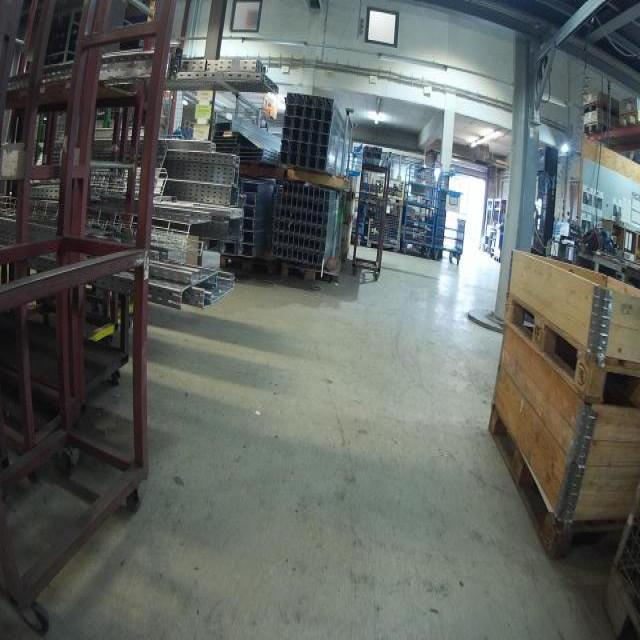pallet: (482, 404, 624, 561), (502, 293, 640, 411), (279, 261, 340, 287), (220, 255, 278, 280), (580, 102, 618, 119), (618, 109, 640, 129), (581, 123, 610, 137)
stillage: (365, 197, 407, 261), (375, 169, 407, 207)
